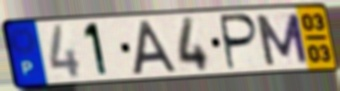1: (80, 21, 110, 79)
4: (47, 22, 84, 81), (175, 15, 212, 74)
A: (130, 18, 180, 77)
M: (252, 12, 311, 68)
P: (219, 12, 261, 72)
